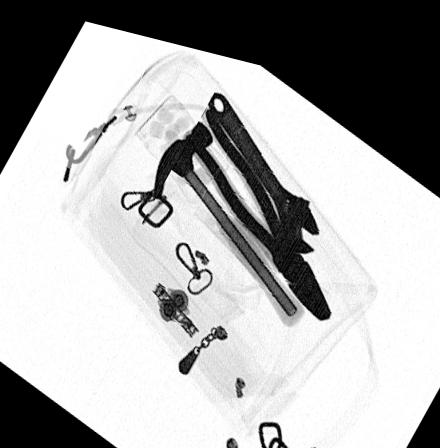Hammer: (154, 107, 306, 312)
Pliers: (179, 95, 332, 304)
Wrench: (207, 78, 319, 240)
